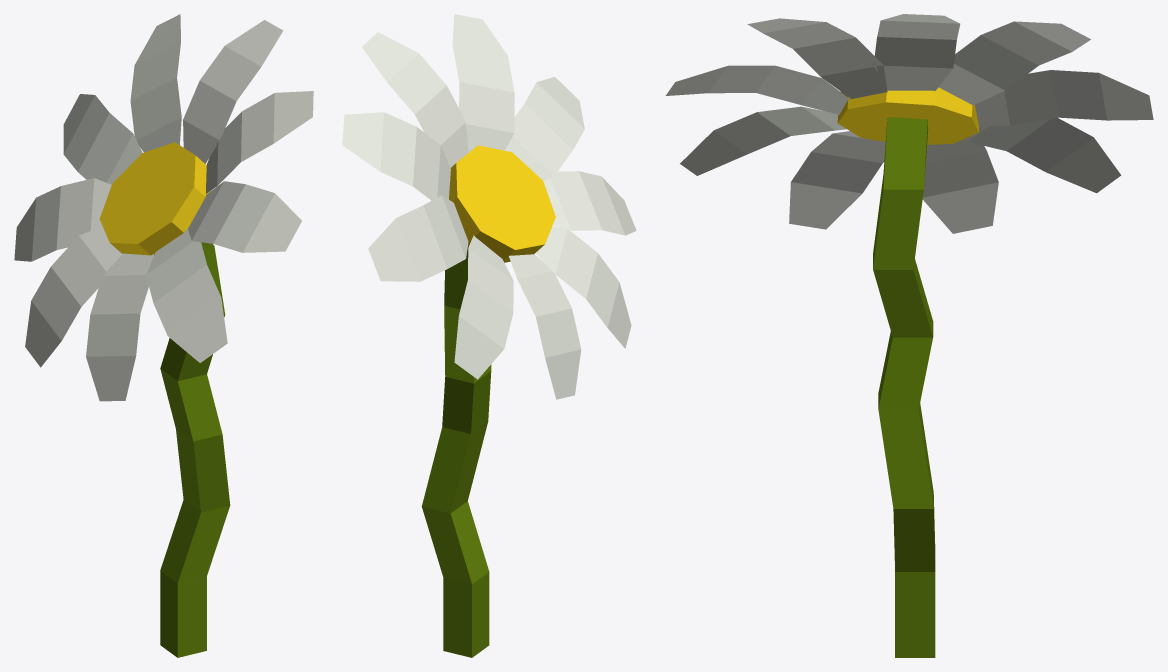
Rendered from flower_white.fbx.
The picture shows the model from 3 angles, left to right: view 1: azimuth 30°, elevation 25°; view 2: azimuth 150°, elevation 25°; view 3: azimuth 270°, elevation 25°; orthographic projection. The views are drawn at different scales.
Visible parts, largest first — view 1: Cylinder, Cube, Cylinder.001; view 2: Cylinder, Cube, Cylinder.001; view 3: Cylinder, Cube, Cylinder.001.
Part boxes in pixels (bbox=[...]): Cylinder: bbox=[14, 14, 313, 401]; Cube: bbox=[160, 242, 230, 657]; Cylinder.001: bbox=[99, 142, 211, 255]; Cylinder: bbox=[342, 14, 636, 399]; Cube: bbox=[421, 246, 491, 657]; Cylinder.001: bbox=[449, 145, 555, 262]; Cylinder: bbox=[665, 14, 1153, 233]; Cube: bbox=[873, 117, 935, 657]; Cylinder.001: bbox=[837, 87, 978, 144].
Bounding box in the file's own units: 363 × 938 × 603.
